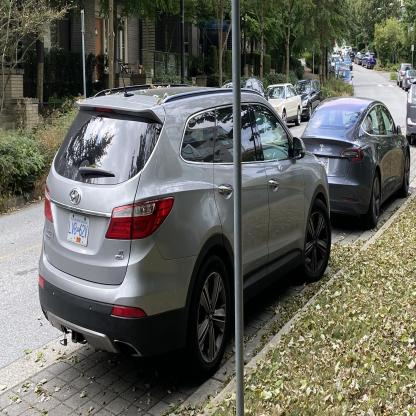License-Plate: (66, 207, 93, 252), (317, 152, 333, 178)
